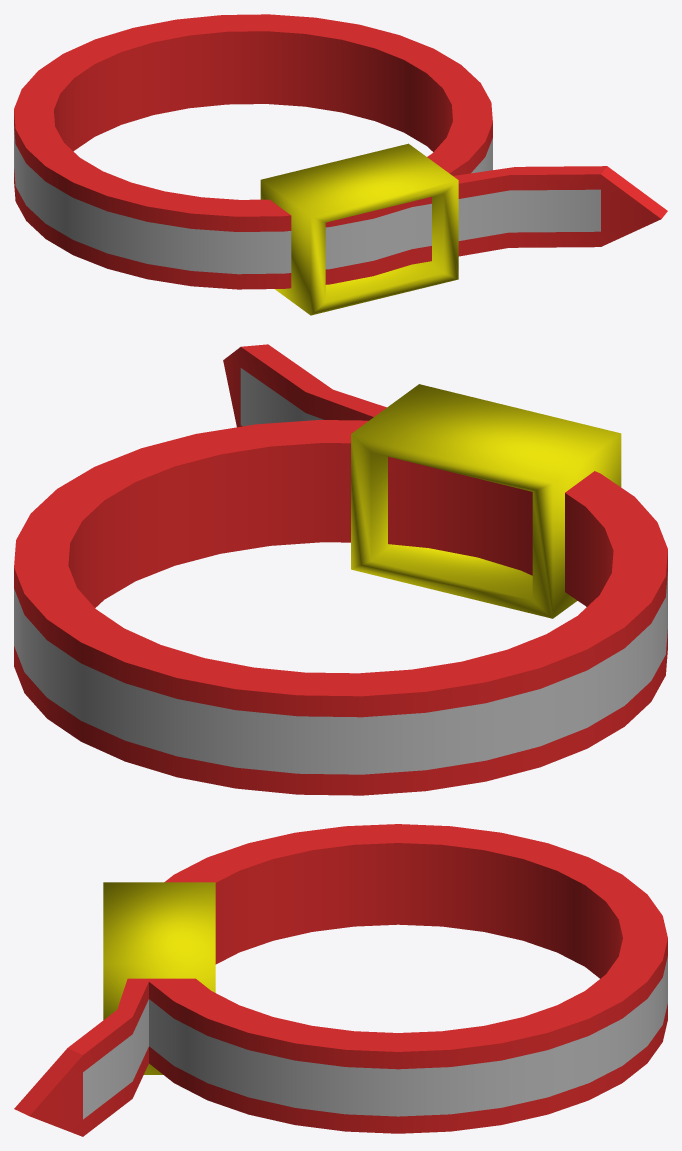
File: kubiwa.fbx
3 renders of one model, top to bottom at view 1: azimuth 30°, elevation 25°; view 2: azimuth 150°, elevation 25°; view 3: azimuth 270°, elevation 25°, orthographic. The views are drawn at different scales.
Parts seen in each view (by area): view 1: Cylinder, Cube; view 2: Cylinder, Cube; view 3: Cylinder, Cube.
Part boxes in pixels (<box>): Cylinder: <box>14,14,667,289</box>; Cube: <box>260,143,458,315</box>; Cylinder: <box>14,344,667,795</box>; Cube: <box>351,384,621,618</box>; Cylinder: <box>14,824,667,1136</box>; Cube: <box>103,882,215,1074</box>.
Size of the model in its own units: 2.2 by 0.4564 by 2.42.
